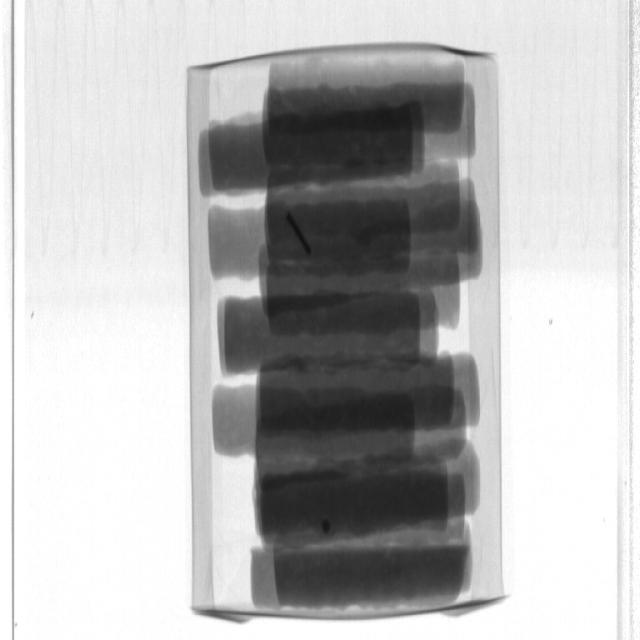ym: (287, 215, 313, 257), (324, 520, 332, 534)
